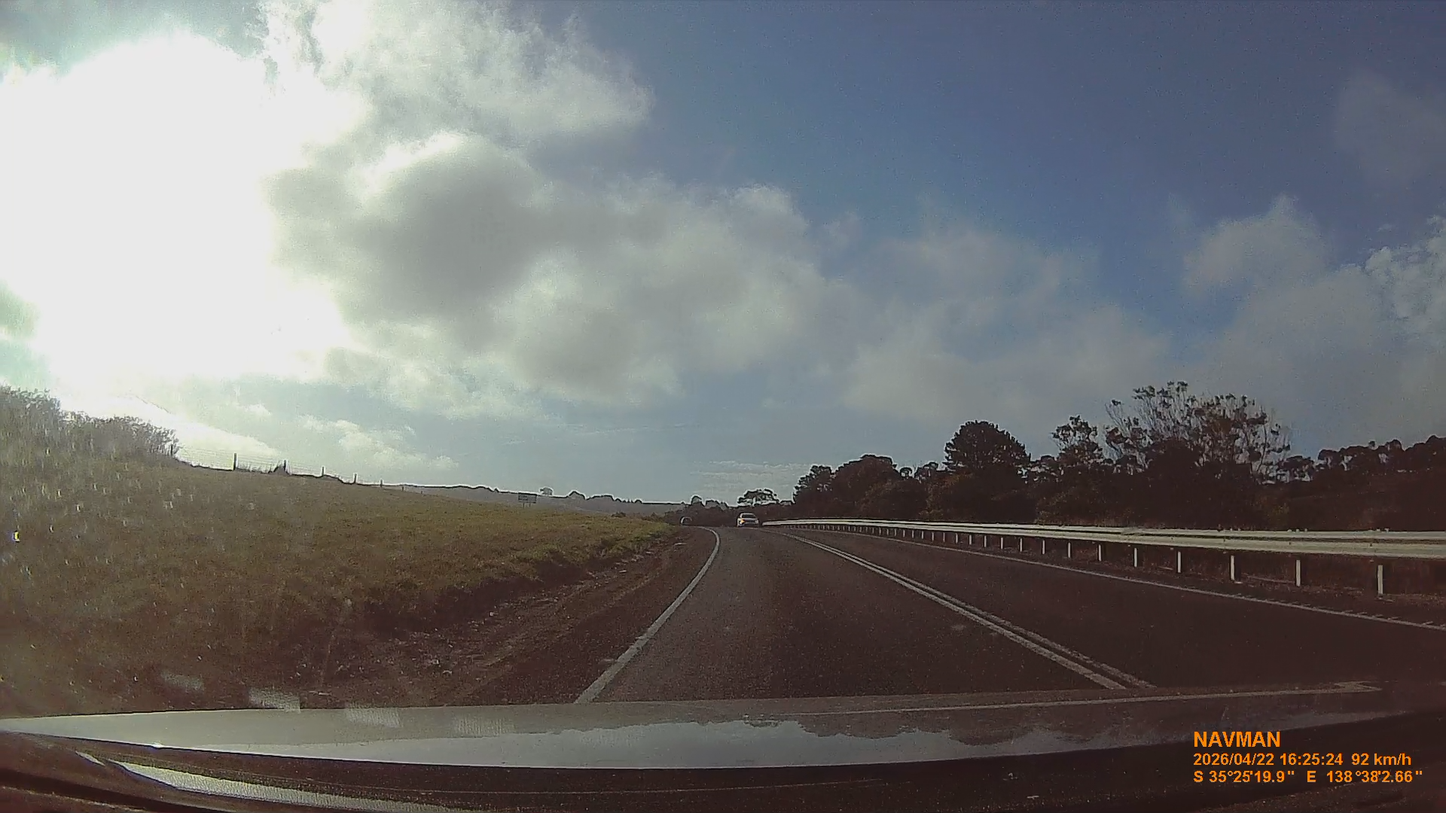road barriers: (788, 518, 1446, 596)
